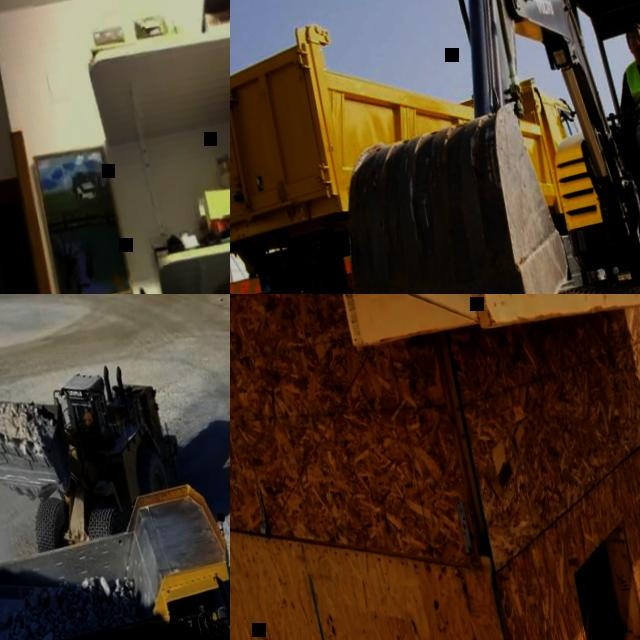NO-Hardhat: (623, 19, 640, 33)
NO-Mask: (632, 44, 640, 60)
NO-Safety Vest: (620, 49, 640, 118), (83, 412, 94, 428)
Person: (598, 11, 640, 189), (79, 405, 95, 428)
machinery: (230, 0, 628, 294), (247, 0, 640, 294), (0, 347, 193, 561), (0, 462, 230, 640)
